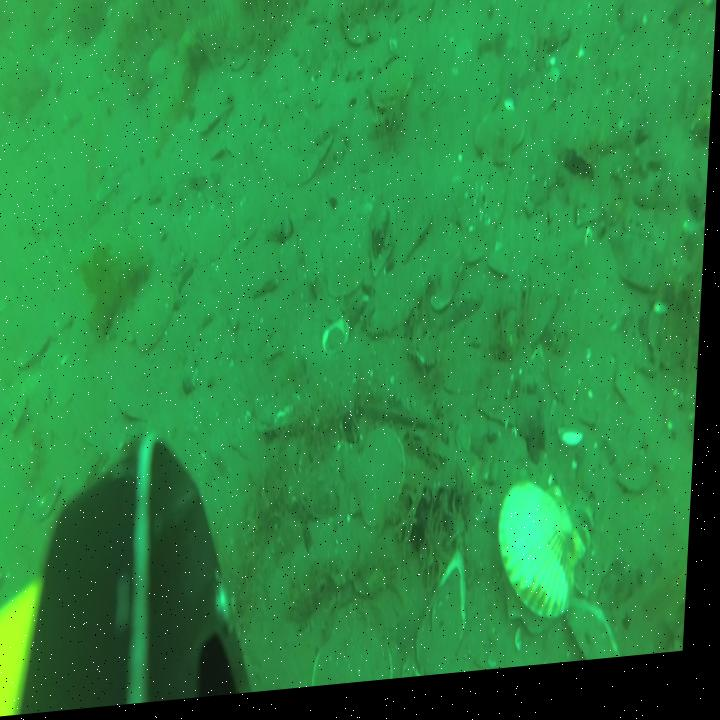scallop: (503, 483, 594, 630), (348, 430, 412, 538), (455, 166, 509, 257), (427, 232, 472, 319), (472, 115, 531, 176), (325, 245, 373, 310), (195, 206, 236, 277), (134, 290, 178, 350), (371, 66, 417, 122), (398, 215, 437, 269), (623, 475, 659, 517), (18, 332, 54, 372), (147, 42, 177, 86), (0, 547, 15, 631), (489, 256, 515, 295), (306, 0, 332, 35)
